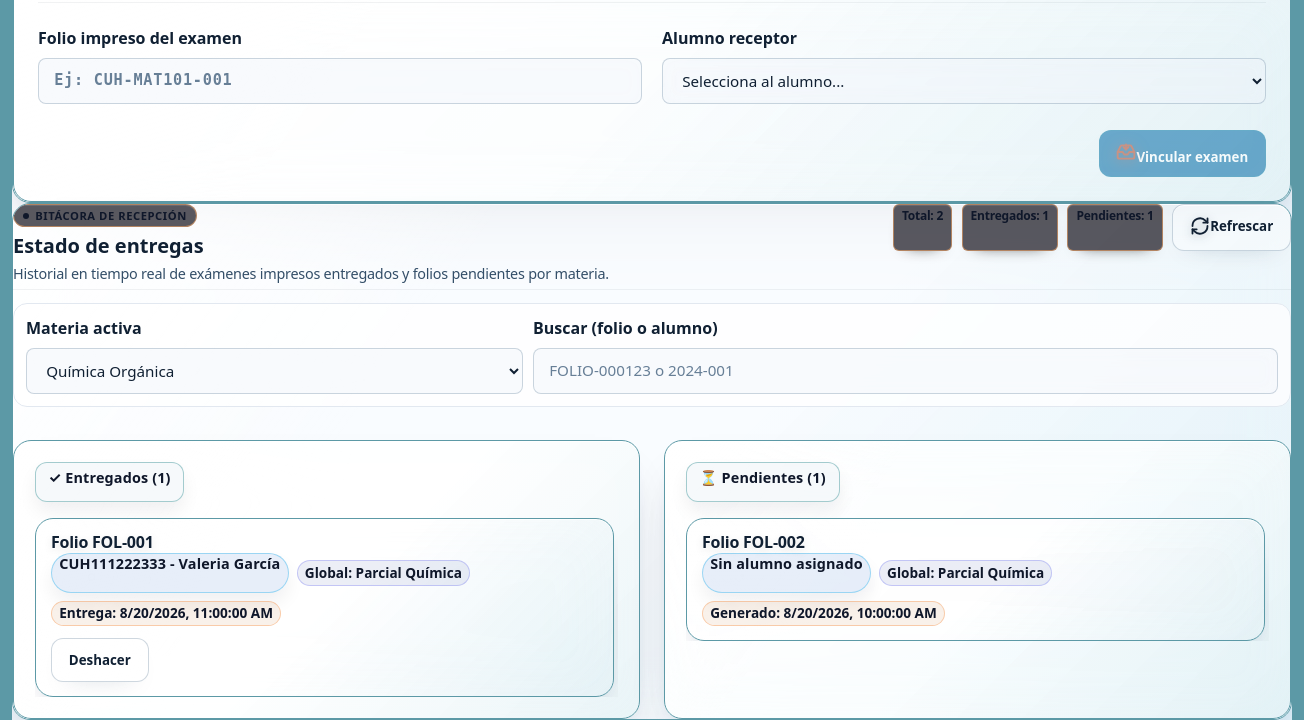
Test: SeccionEntrega › permite filtrar exámenes por folio o texto de búsqueda
(page scrolled)
Expected: the text "Folio FOL-001" is shown, [51,532,154,554]
Step 1. Type "FOL-002" into the field with placeholder "FOLIO-000123 o 2024-001" → [906, 371], box [533,348,1278,394]
(page scrolled)
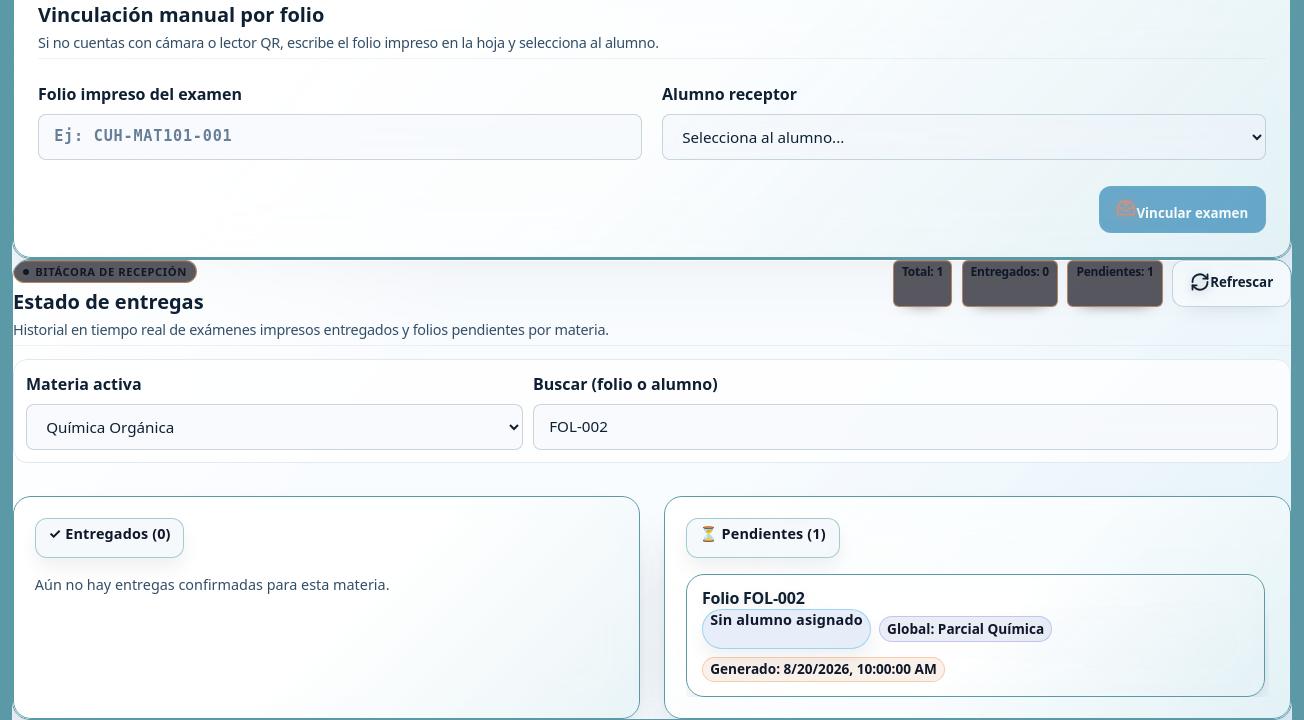
Expected: the text "Folio FOL-002" is shown, [702,588,805,610]
Now the text "FOL-001" is gone
